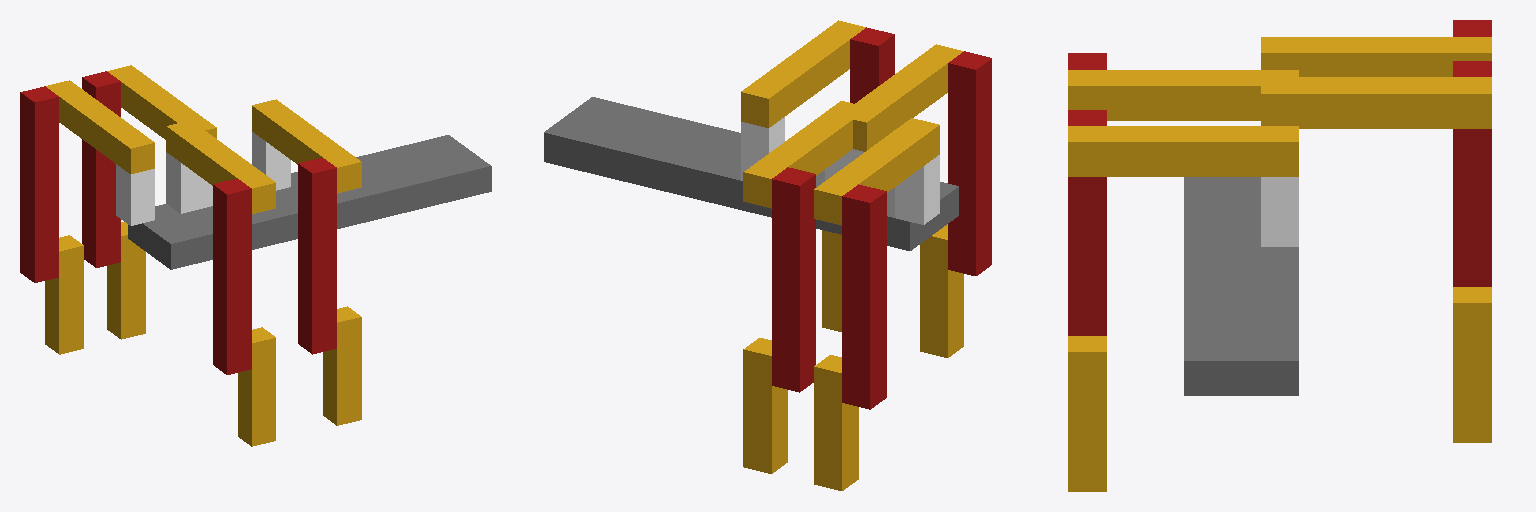
The robot description file, URDF, robot "v0":
<?xml version="1.0" encoding="utf-8"?>
<!-- =================================================================================== -->
<!-- |    This document was autogenerated by xacro from ../robots/v0variants/xacros/v0_4l_13.xacro | -->
<!-- |    EDITING THIS FILE BY HAND IS NOT RECOMMENDED                                 | -->
<!-- =================================================================================== -->
<robot name="v0">
  <material name="grey">
    <color rgba="0.5 0.5 0.5 1"/>
  </material>
  <material name="white">
    <color rgba="1 1 1 1"/>
  </material>
  <material name="yellow">
    <color rgba="0.91 0.7 0.14 1"/>
  </material>
  <material name="red">
    <color rgba="0.71 0.14 0.14 1"/>
  </material>
  <link name="body">
    <visual>
      <geometry>
        <box size="1.3 0.3 0.1"/>
      </geometry>
      <material name="grey"/>
      <origin rpy="0 0 0" xyz="0 0 0.7"/>
    </visual>
    <collision>
      <geometry>
        <box size="1.3 0.3 0.1"/>
      </geometry>
      <origin rpy="0 0 0" xyz="0 0 0.7"/>
    </collision>
    <inertial>
      <mass value="99.84"/>
      <inertia ixx="0.832" ixy="0.0" ixz="0.0" iyy="14.144" iyz="0.0" izz="14.8096"/>
    </inertial>
  </link>
  <link name="l1_segment_1">
    <visual>
      <geometry>
        <box size="0.1 0.1 0.2"/>
      </geometry>
      <material name="white"/>
      <origin rpy="0 0 0" xyz="0 0 0.1"/>
    </visual>
    <collision>
      <geometry>
        <box size="0.1 0.1 0.2"/>
      </geometry>
      <origin rpy="0 0 0" xyz="0 0 0.1"/>
    </collision>
    <inertial>
      <mass value="5.12"/>
      <inertia ixx="0.0213333333333" ixy="0.0" ixz="0.0" iyy="0.0213333333333" iyz="0.0" izz="0.00853333333333"/>
    </inertial>
  </link>
  <joint name="l1_base_to_joint_1" type="fixed">
    <parent link="body"/>
    <child link="l1_segment_1"/>
    <origin rpy="0 0 0" xyz="-0.6475553053224427 0.1 0.75"/>
  </joint>
  <link name="l1_segment_2_HIP">
    <visual>
      <geometry>
        <box size="0.1 0.6 0.1"/>
      </geometry>
      <material name="yellow"/>
      <origin rpy="0 0 0" xyz="0 0.25 0"/>
    </visual>
    <collision>
      <geometry>
        <box size="0.1 0.6 0.1"/>
      </geometry>
      <origin rpy="0 0 0" xyz="0 0.25 0"/>
    </collision>
    <inertial>
      <mass value="15.36"/>
      <inertia ixx="0.4736" ixy="0.0" ixz="0.0" iyy="0.0256" iyz="0.0" izz="0.4736"/>
    </inertial>
  </link>
  <joint name="l1_joint_1_to_2" type="revolute">
    <parent link="l1_segment_1"/>
    <child link="l1_segment_2_HIP"/>
    <origin rpy="0 0 0" xyz="0 0 0.25"/>
    <axis xyz="0.0 0.0 1.0"/>
    <limit effort="2048" lower="-1.2" upper="1.2" velocity="20"/>
  </joint>
  <link name="l1_segment_3_THIGH">
    <visual>
      <geometry>
        <box size="0.1 0.1 0.7"/>
      </geometry>
      <material name="red"/>
      <origin rpy="0 0 0" xyz="0 0 -0.3"/>
    </visual>
    <collision>
      <geometry>
        <box size="0.1 0.1 0.7"/>
      </geometry>
      <origin rpy="0 0 0" xyz="0 0 -0.3"/>
    </collision>
    <inertial>
      <mass value="17.92"/>
      <inertia ixx="0.746666666667" ixy="0.0" ixz="0.0" iyy="0.746666666667" iyz="0.0" izz="0.0298666666667"/>
    </inertial>
  </link>
  <joint name="l1_joint_2_to_3" type="revolute">
    <parent link="l1_segment_2_HIP"/>
    <child link="l1_segment_3_THIGH"/>
    <origin rpy="0 0 0" xyz="-0.1 0.5 0"/>
    <axis xyz="1.0 0.0 0.0"/>
    <limit effort="2048" lower="-0.2" upper="0.75" velocity="20"/>
  </joint>
  <link name="l1_segment_4_FOOT">
    <visual>
      <geometry>
        <box size="0.1 0.1 0.4"/>
      </geometry>
      <material name="yellow"/>
      <origin rpy="0 0 0" xyz="0 0 -0.2"/>
    </visual>
    <collision>
      <geometry>
        <box size="0.1 0.1 0.4"/>
      </geometry>
      <origin rpy="0 0 0" xyz="0 0 -0.2"/>
    </collision>
    <inertial>
      <mass value="10.24"/>
      <inertia ixx="0.145066666667" ixy="0.0" ixz="0.0" iyy="0.145066666667" iyz="0.0" izz="0.0170666666667"/>
    </inertial>
  </link>
  <joint name="l1_joint_3_to_4_FOOT" type="revolute">
    <parent link="l1_segment_3_THIGH"/>
    <child link="l1_segment_4_FOOT"/>
    <origin rpy="0 0 0" xyz="0.1 0 -0.55"/>
    <axis xyz="1.0 0.0 0.0"/>
    <limit effort="2048" lower="-0.2" upper="0.5" velocity="20"/>
  </joint>
  <link name="r2_segment_1">
    <visual>
      <geometry>
        <box size="0.1 0.1 0.2"/>
      </geometry>
      <material name="white"/>
      <origin rpy="0 0 0" xyz="0 0 0.1"/>
    </visual>
    <collision>
      <geometry>
        <box size="0.1 0.1 0.2"/>
      </geometry>
      <origin rpy="0 0 0" xyz="0 0 0.1"/>
    </collision>
    <inertial>
      <mass value="5.12"/>
      <inertia ixx="0.0213333333333" ixy="0.0" ixz="0.0" iyy="0.0213333333333" iyz="0.0" izz="0.00853333333333"/>
    </inertial>
  </link>
  <joint name="r2_base_to_joint_1" type="fixed">
    <parent link="body"/>
    <child link="r2_segment_1"/>
    <origin rpy="0 0 0" xyz="-0.44505246398696174 0.1 0.75"/>
  </joint>
  <link name="r2_segment_2_HIP">
    <visual>
      <geometry>
        <box size="0.1 0.6 0.1"/>
      </geometry>
      <material name="yellow"/>
      <origin rpy="0 0 0" xyz="0 -0.25 0"/>
    </visual>
    <collision>
      <geometry>
        <box size="0.1 0.6 0.1"/>
      </geometry>
      <origin rpy="0 0 0" xyz="0 -0.25 0"/>
    </collision>
    <inertial>
      <mass value="15.36"/>
      <inertia ixx="0.4736" ixy="0.0" ixz="0.0" iyy="0.0256" iyz="0.0" izz="0.4736"/>
    </inertial>
  </link>
  <joint name="r2_joint_1_to_2" type="revolute">
    <parent link="r2_segment_1"/>
    <child link="r2_segment_2_HIP"/>
    <origin rpy="0 0 0" xyz="0 0 0.25"/>
    <axis xyz="0.0 0.0 1.0"/>
    <limit effort="2048" lower="-1.2" upper="1.2" velocity="20"/>
  </joint>
  <link name="r2_segment_3_THIGH">
    <visual>
      <geometry>
        <box size="0.1 0.1 0.7"/>
      </geometry>
      <material name="red"/>
      <origin rpy="0 0 0" xyz="0 0 -0.3"/>
    </visual>
    <collision>
      <geometry>
        <box size="0.1 0.1 0.7"/>
      </geometry>
      <origin rpy="0 0 0" xyz="0 0 -0.3"/>
    </collision>
    <inertial>
      <mass value="17.92"/>
      <inertia ixx="0.746666666667" ixy="0.0" ixz="0.0" iyy="0.746666666667" iyz="0.0" izz="0.0298666666667"/>
    </inertial>
  </link>
  <joint name="r2_joint_2_to_3" type="revolute">
    <parent link="r2_segment_2_HIP"/>
    <child link="r2_segment_3_THIGH"/>
    <origin rpy="0 0 0" xyz="-0.1 -0.5 0"/>
    <axis xyz="1.0 0.0 0.0"/>
    <limit effort="2048" lower="-0.75" upper="0.2" velocity="20"/>
  </joint>
  <link name="r2_segment_4_FOOT">
    <visual>
      <geometry>
        <box size="0.1 0.1 0.4"/>
      </geometry>
      <material name="yellow"/>
      <origin rpy="0 0 0" xyz="0 0 -0.2"/>
    </visual>
    <collision>
      <geometry>
        <box size="0.1 0.1 0.4"/>
      </geometry>
      <origin rpy="0 0 0" xyz="0 0 -0.2"/>
    </collision>
    <inertial>
      <mass value="10.24"/>
      <inertia ixx="0.145066666667" ixy="0.0" ixz="0.0" iyy="0.145066666667" iyz="0.0" izz="0.0170666666667"/>
    </inertial>
  </link>
  <joint name="r2_joint_3_to_4_FOOT" type="revolute">
    <parent link="r2_segment_3_THIGH"/>
    <child link="r2_segment_4_FOOT"/>
    <origin rpy="0 0 0" xyz="0.1 0 -0.55"/>
    <axis xyz="1.0 0.0 0.0"/>
    <limit effort="2048" lower="-0.5" upper="0.2" velocity="20"/>
  </joint>
  <link name="l3_segment_1">
    <visual>
      <geometry>
        <box size="0.1 0.1 0.2"/>
      </geometry>
      <material name="white"/>
      <origin rpy="0 0 0" xyz="0 0 0.1"/>
    </visual>
    <collision>
      <geometry>
        <box size="0.1 0.1 0.2"/>
      </geometry>
      <origin rpy="0 0 0" xyz="0 0 0.1"/>
    </collision>
    <inertial>
      <mass value="5.12"/>
      <inertia ixx="0.0213333333333" ixy="0.0" ixz="0.0" iyy="0.0213333333333" iyz="0.0" izz="0.00853333333333"/>
    </inertial>
  </link>
  <joint name="l3_base_to_joint_1" type="fixed">
    <parent link="body"/>
    <child link="l3_segment_1"/>
    <origin rpy="0 0 0" xyz="-0.39748584964362743 0.1 0.75"/>
  </joint>
  <link name="l3_segment_2_HIP">
    <visual>
      <geometry>
        <box size="0.1 0.6 0.1"/>
      </geometry>
      <material name="yellow"/>
      <origin rpy="0 0 0" xyz="0 0.25 0"/>
    </visual>
    <collision>
      <geometry>
        <box size="0.1 0.6 0.1"/>
      </geometry>
      <origin rpy="0 0 0" xyz="0 0.25 0"/>
    </collision>
    <inertial>
      <mass value="15.36"/>
      <inertia ixx="0.4736" ixy="0.0" ixz="0.0" iyy="0.0256" iyz="0.0" izz="0.4736"/>
    </inertial>
  </link>
  <joint name="l3_joint_1_to_2" type="revolute">
    <parent link="l3_segment_1"/>
    <child link="l3_segment_2_HIP"/>
    <origin rpy="0 0 0" xyz="0 0 0.25"/>
    <axis xyz="0.0 0.0 1.0"/>
    <limit effort="2048" lower="-1.2" upper="1.2" velocity="20"/>
  </joint>
  <link name="l3_segment_3_THIGH">
    <visual>
      <geometry>
        <box size="0.1 0.1 0.7"/>
      </geometry>
      <material name="red"/>
      <origin rpy="0 0 0" xyz="0 0 -0.3"/>
    </visual>
    <collision>
      <geometry>
        <box size="0.1 0.1 0.7"/>
      </geometry>
      <origin rpy="0 0 0" xyz="0 0 -0.3"/>
    </collision>
    <inertial>
      <mass value="17.92"/>
      <inertia ixx="0.746666666667" ixy="0.0" ixz="0.0" iyy="0.746666666667" iyz="0.0" izz="0.0298666666667"/>
    </inertial>
  </link>
  <joint name="l3_joint_2_to_3" type="revolute">
    <parent link="l3_segment_2_HIP"/>
    <child link="l3_segment_3_THIGH"/>
    <origin rpy="0 0 0" xyz="-0.1 0.5 0"/>
    <axis xyz="1.0 0.0 0.0"/>
    <limit effort="2048" lower="-0.2" upper="0.75" velocity="20"/>
  </joint>
  <link name="l3_segment_4_FOOT">
    <visual>
      <geometry>
        <box size="0.1 0.1 0.4"/>
      </geometry>
      <material name="yellow"/>
      <origin rpy="0 0 0" xyz="0 0 -0.2"/>
    </visual>
    <collision>
      <geometry>
        <box size="0.1 0.1 0.4"/>
      </geometry>
      <origin rpy="0 0 0" xyz="0 0 -0.2"/>
    </collision>
    <inertial>
      <mass value="10.24"/>
      <inertia ixx="0.145066666667" ixy="0.0" ixz="0.0" iyy="0.145066666667" iyz="0.0" izz="0.0170666666667"/>
    </inertial>
  </link>
  <joint name="l3_joint_3_to_4_FOOT" type="revolute">
    <parent link="l3_segment_3_THIGH"/>
    <child link="l3_segment_4_FOOT"/>
    <origin rpy="0 0 0" xyz="0.1 0 -0.55"/>
    <axis xyz="1.0 0.0 0.0"/>
    <limit effort="2048" lower="-0.2" upper="0.5" velocity="20"/>
  </joint>
  <link name="r4_segment_1">
    <visual>
      <geometry>
        <box size="0.1 0.1 0.2"/>
      </geometry>
      <material name="white"/>
      <origin rpy="0 0 0" xyz="0 0 0.1"/>
    </visual>
    <collision>
      <geometry>
        <box size="0.1 0.1 0.2"/>
      </geometry>
      <origin rpy="0 0 0" xyz="0 0 0.1"/>
    </collision>
    <inertial>
      <mass value="5.12"/>
      <inertia ixx="0.0213333333333" ixy="0.0" ixz="0.0" iyy="0.0213333333333" iyz="0.0" izz="0.00853333333333"/>
    </inertial>
  </link>
  <joint name="r4_base_to_joint_1" type="fixed">
    <parent link="body"/>
    <child link="r4_segment_1"/>
    <origin rpy="0 0 0" xyz="-0.09892988425643137 0.1 0.75"/>
  </joint>
  <link name="r4_segment_2_HIP">
    <visual>
      <geometry>
        <box size="0.1 0.6 0.1"/>
      </geometry>
      <material name="yellow"/>
      <origin rpy="0 0 0" xyz="0 -0.25 0"/>
    </visual>
    <collision>
      <geometry>
        <box size="0.1 0.6 0.1"/>
      </geometry>
      <origin rpy="0 0 0" xyz="0 -0.25 0"/>
    </collision>
    <inertial>
      <mass value="15.36"/>
      <inertia ixx="0.4736" ixy="0.0" ixz="0.0" iyy="0.0256" iyz="0.0" izz="0.4736"/>
    </inertial>
  </link>
  <joint name="r4_joint_1_to_2" type="revolute">
    <parent link="r4_segment_1"/>
    <child link="r4_segment_2_HIP"/>
    <origin rpy="0 0 0" xyz="0 0 0.25"/>
    <axis xyz="0.0 0.0 1.0"/>
    <limit effort="2048" lower="-1.2" upper="1.2" velocity="20"/>
  </joint>
  <link name="r4_segment_3_THIGH">
    <visual>
      <geometry>
        <box size="0.1 0.1 0.7"/>
      </geometry>
      <material name="red"/>
      <origin rpy="0 0 0" xyz="0 0 -0.3"/>
    </visual>
    <collision>
      <geometry>
        <box size="0.1 0.1 0.7"/>
      </geometry>
      <origin rpy="0 0 0" xyz="0 0 -0.3"/>
    </collision>
    <inertial>
      <mass value="17.92"/>
      <inertia ixx="0.746666666667" ixy="0.0" ixz="0.0" iyy="0.746666666667" iyz="0.0" izz="0.0298666666667"/>
    </inertial>
  </link>
  <joint name="r4_joint_2_to_3" type="revolute">
    <parent link="r4_segment_2_HIP"/>
    <child link="r4_segment_3_THIGH"/>
    <origin rpy="0 0 0" xyz="-0.1 -0.5 0"/>
    <axis xyz="1.0 0.0 0.0"/>
    <limit effort="2048" lower="-0.75" upper="0.2" velocity="20"/>
  </joint>
  <link name="r4_segment_4_FOOT">
    <visual>
      <geometry>
        <box size="0.1 0.1 0.4"/>
      </geometry>
      <material name="yellow"/>
      <origin rpy="0 0 0" xyz="0 0 -0.2"/>
    </visual>
    <collision>
      <geometry>
        <box size="0.1 0.1 0.4"/>
      </geometry>
      <origin rpy="0 0 0" xyz="0 0 -0.2"/>
    </collision>
    <inertial>
      <mass value="10.24"/>
      <inertia ixx="0.145066666667" ixy="0.0" ixz="0.0" iyy="0.145066666667" iyz="0.0" izz="0.0170666666667"/>
    </inertial>
  </link>
  <joint name="r4_joint_3_to_4_FOOT" type="revolute">
    <parent link="r4_segment_3_THIGH"/>
    <child link="r4_segment_4_FOOT"/>
    <origin rpy="0 0 0" xyz="0.1 0 -0.55"/>
    <axis xyz="1.0 0.0 0.0"/>
    <limit effort="2048" lower="-0.5" upper="0.2" velocity="20"/>
  </joint>
</robot>

--- Render facts (derived) ---
3 views of the same robot in one strip: view 1: azimuth 30°, elevation 25°; view 2: azimuth 150°, elevation 25°; view 3: azimuth 270°, elevation 25° (orthographic).
Robot: v0 — 17 links, 16 joints (12 revolute, 4 fixed); root link body; default pose: every joint at zero.
Visible links, largest first — view 1: body, l1_segment_3_THIGH, r2_segment_3_THIGH, r4_segment_3_THIGH, l3_segment_3_THIGH, l1_segment_2_HIP, r4_segment_2_HIP, r2_segment_2_HIP, l1_segment_4_FOOT, r4_segment_4_FOOT, r2_segment_4_FOOT, l3_segment_4_FOOT (+4 smaller); view 2: body, l1_segment_3_THIGH, l3_segment_3_THIGH, r2_segment_3_THIGH, r4_segment_2_HIP, l1_segment_2_HIP, r2_segment_2_HIP, l3_segment_4_FOOT, l1_segment_4_FOOT, l3_segment_2_HIP, r2_segment_4_FOOT, r4_segment_3_THIGH (+3 smaller); view 3: body, l3_segment_2_HIP, r4_segment_2_HIP, r2_segment_2_HIP, l1_segment_2_HIP, r4_segment_3_THIGH, l3_segment_3_THIGH, l3_segment_4_FOOT, r4_segment_4_FOOT, r4_segment_1, l1_segment_3_THIGH, r2_segment_3_THIGH.
Boxes of the visible links, left/top/right/bottom form: body: left=128, top=135, right=491, bottom=269; l1_segment_3_THIGH: left=20, top=86, right=58, bottom=282; r2_segment_3_THIGH: left=213, top=178, right=251, bottom=374; r4_segment_3_THIGH: left=298, top=158, right=336, bottom=354; l3_segment_3_THIGH: left=82, top=71, right=120, bottom=267; l1_segment_2_HIP: left=46, top=80, right=154, bottom=173; r4_segment_2_HIP: left=252, top=99, right=361, bottom=193; r2_segment_2_HIP: left=166, top=121, right=275, bottom=213; l1_segment_4_FOOT: left=45, top=235, right=83, bottom=354; r4_segment_4_FOOT: left=323, top=306, right=361, bottom=425; r2_segment_4_FOOT: left=238, top=327, right=275, bottom=446; l3_segment_4_FOOT: left=107, top=222, right=145, bottom=339; body: left=544, top=97, right=958, bottom=250; l1_segment_3_THIGH: left=842, top=184, right=886, bottom=409; l3_segment_3_THIGH: left=772, top=167, right=815, bottom=392; r2_segment_3_THIGH: left=948, top=51, right=991, bottom=275; r4_segment_2_HIP: left=741, top=20, right=865, bottom=127; l1_segment_2_HIP: left=814, top=118, right=939, bottom=225; r2_segment_2_HIP: left=839, top=44, right=963, bottom=151; l3_segment_4_FOOT: left=743, top=338, right=787, bottom=473; l1_segment_4_FOOT: left=814, top=355, right=858, bottom=490; l3_segment_2_HIP: left=743, top=101, right=868, bottom=208; r2_segment_4_FOOT: left=920, top=224, right=963, bottom=357; r4_segment_3_THIGH: left=850, top=27, right=894, bottom=103; body: left=1184, top=177, right=1298, bottom=395; l3_segment_2_HIP: left=1261, top=77, right=1491, bottom=128; r4_segment_2_HIP: left=1068, top=126, right=1298, bottom=176; r2_segment_2_HIP: left=1068, top=70, right=1298, bottom=120; l1_segment_2_HIP: left=1261, top=37, right=1491, bottom=76; r4_segment_3_THIGH: left=1068, top=110, right=1106, bottom=335; l3_segment_3_THIGH: left=1453, top=61, right=1491, bottom=286; l3_segment_4_FOOT: left=1453, top=287, right=1491, bottom=442; r4_segment_4_FOOT: left=1068, top=336, right=1106, bottom=491; r4_segment_1: left=1261, top=177, right=1298, bottom=246; l1_segment_3_THIGH: left=1453, top=20, right=1491, bottom=36; r2_segment_3_THIGH: left=1068, top=53, right=1106, bottom=69.
Bounding box of the posed robot: 1.45 × 1.1 × 1 m (x, y, z).
Geometry: primitives only (box / cylinder / sphere), no mesh files.